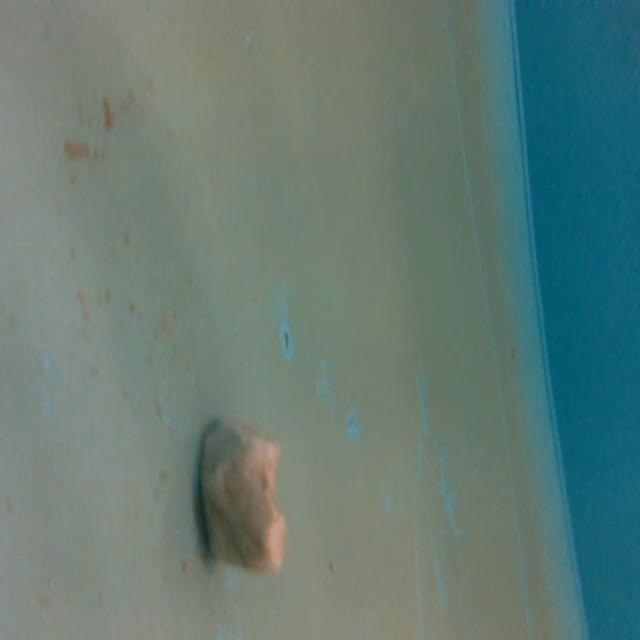rock: (192, 413, 300, 578)
